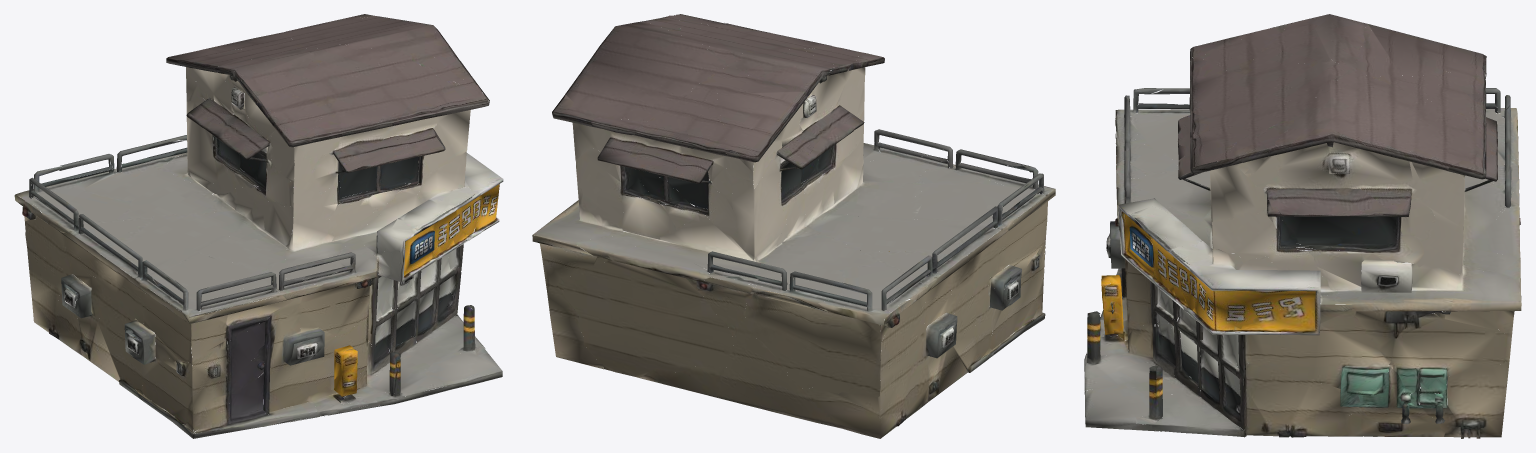
Rendered from building5.glb.
The picture shows the model from 3 angles, left to right: view 1: azimuth 30°, elevation 25°; view 2: azimuth 150°, elevation 25°; view 3: azimuth 270°, elevation 25°; orthographic projection. The views are drawn at different scales.
Parts seen in each view (by area): view 1: tripo_node_78437666-8772-4c20-95e0-9f422779b059; view 2: tripo_node_78437666-8772-4c20-95e0-9f422779b059; view 3: tripo_node_78437666-8772-4c20-95e0-9f422779b059.
Boxes of the visible parts, <box> form: tripo_node_78437666-8772-4c20-95e0-9f422779b059: <box>14,14,503,438</box>; tripo_node_78437666-8772-4c20-95e0-9f422779b059: <box>532,14,1055,438</box>; tripo_node_78437666-8772-4c20-95e0-9f422779b059: <box>1084,14,1521,438</box>.
Size of the model in its own units: 0.9997 by 0.7164 by 0.8821.
1 material, 1 textured.
